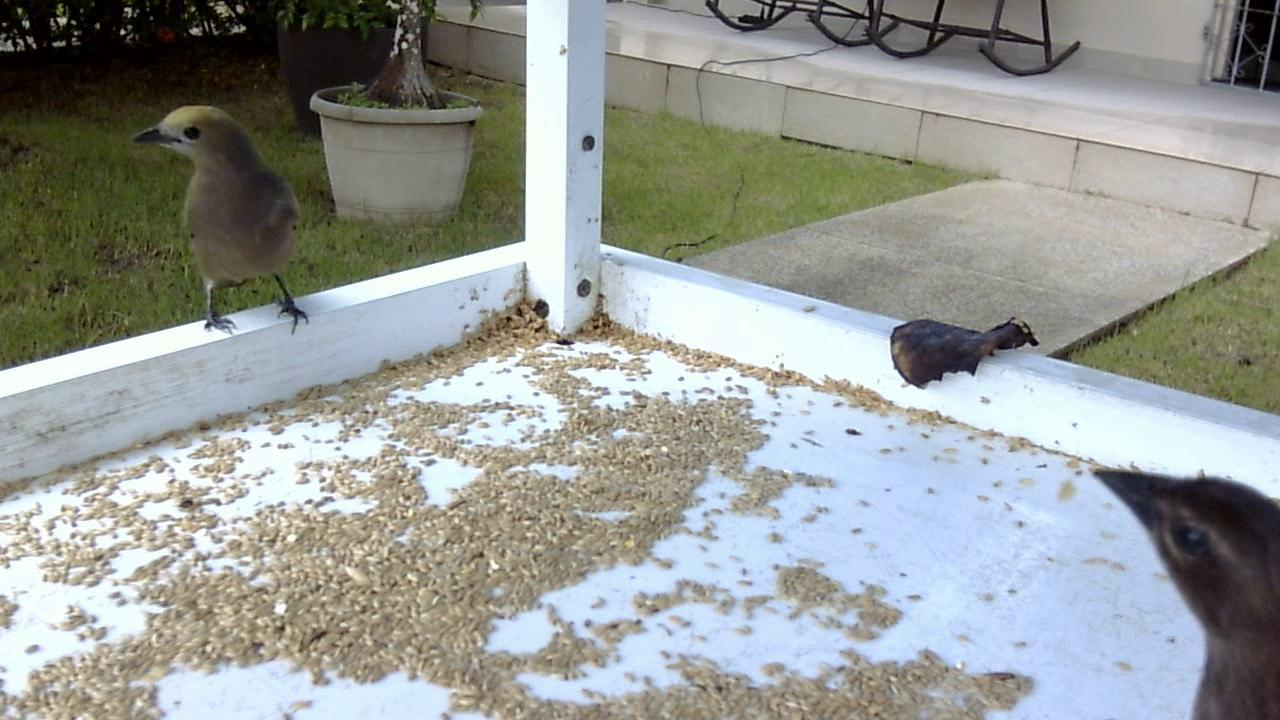chupim: (1071, 450, 1280, 720)
sanhaco_do_coqueiro: (130, 92, 313, 351)
